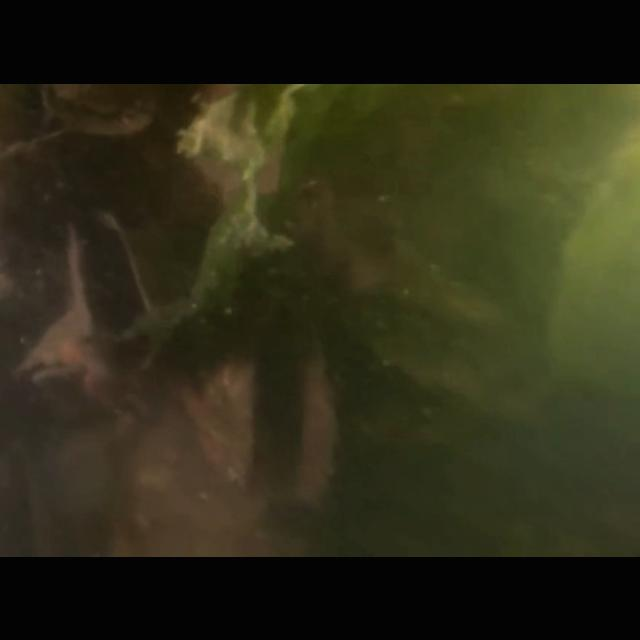Oyster-Open: (186, 318, 340, 512), (68, 215, 156, 347), (36, 82, 162, 144), (12, 312, 92, 390)
